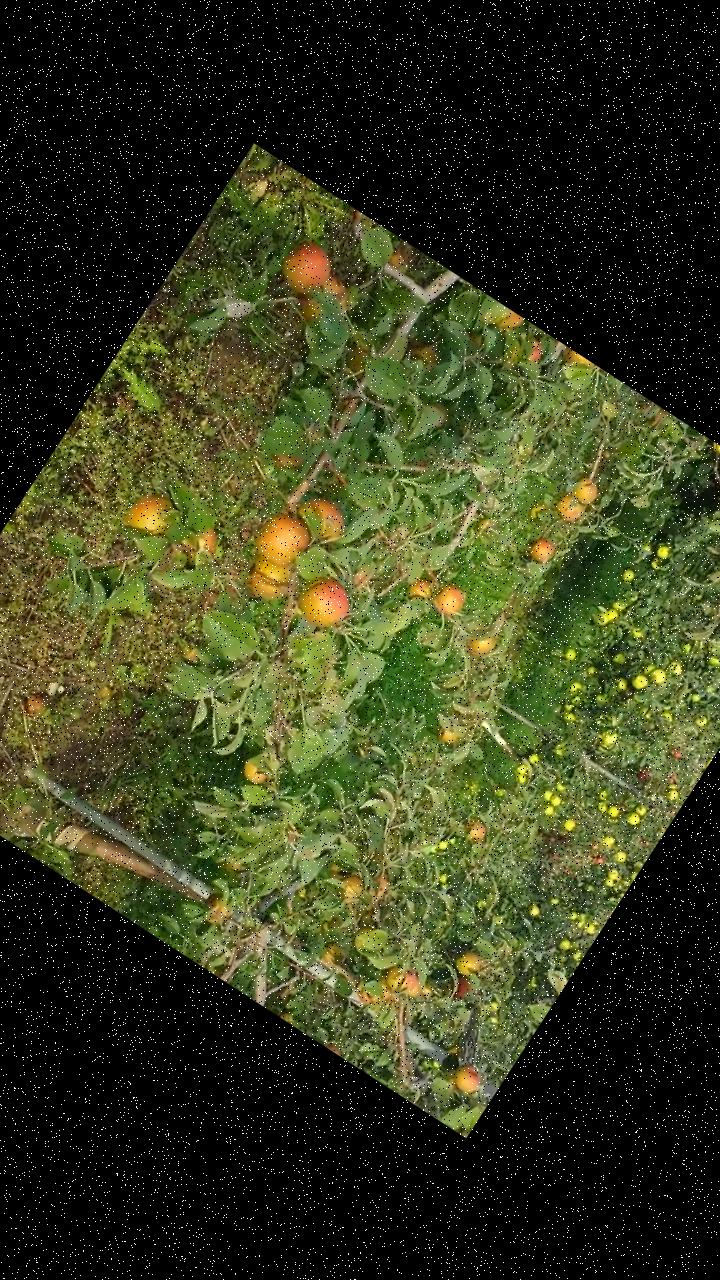Apple: (272, 234, 343, 306), (292, 267, 362, 340), (291, 566, 362, 636), (253, 506, 322, 575), (116, 481, 182, 547), (295, 488, 357, 546), (241, 552, 297, 608), (350, 964, 401, 1014), (382, 957, 432, 1004), (337, 339, 380, 384), (400, 571, 442, 615), (552, 488, 592, 528), (408, 335, 447, 375), (461, 623, 500, 662), (450, 946, 490, 984), (450, 1060, 488, 1098), (491, 306, 529, 344), (432, 580, 469, 618), (191, 520, 228, 558), (199, 892, 235, 928), (424, 398, 456, 434), (270, 442, 306, 474), (336, 872, 368, 906), (320, 940, 352, 973), (574, 472, 607, 504), (561, 348, 596, 378), (526, 534, 558, 566), (520, 336, 552, 368), (240, 756, 272, 788), (348, 920, 378, 954), (448, 972, 479, 1004), (365, 870, 395, 902), (526, 495, 554, 524), (467, 817, 494, 845), (347, 568, 373, 593), (466, 330, 490, 353), (436, 726, 460, 748), (220, 856, 244, 878), (324, 1038, 346, 1056)
